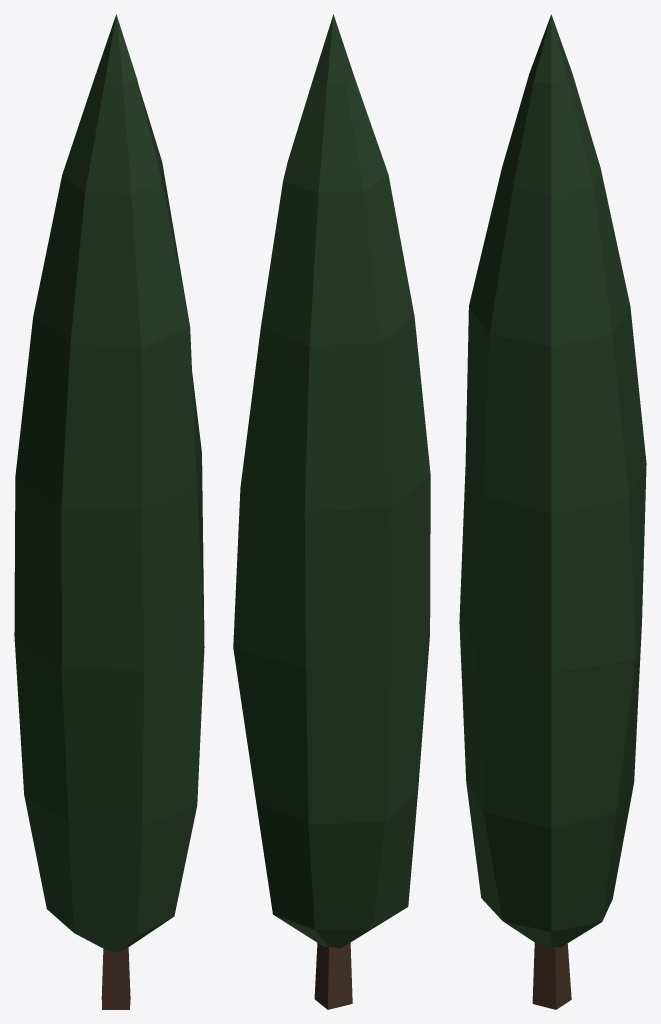
The model's file is cypress.glb.
3 renders of one model, left to right at view 1: azimuth 30°, elevation 25°; view 2: azimuth 150°, elevation 25°; view 3: azimuth 270°, elevation 25°, orthographic.
Parts seen in each view (by area): view 1: cypress; view 2: cypress; view 3: cypress.
Boxes of the visible parts, x1,y1,x2,y2 form: cypress: (14, 14, 204, 1009); cypress: (233, 14, 430, 1009); cypress: (459, 14, 646, 1009).
Bounding box in the file's own units: 1.96 × 11.2 × 1.92.
